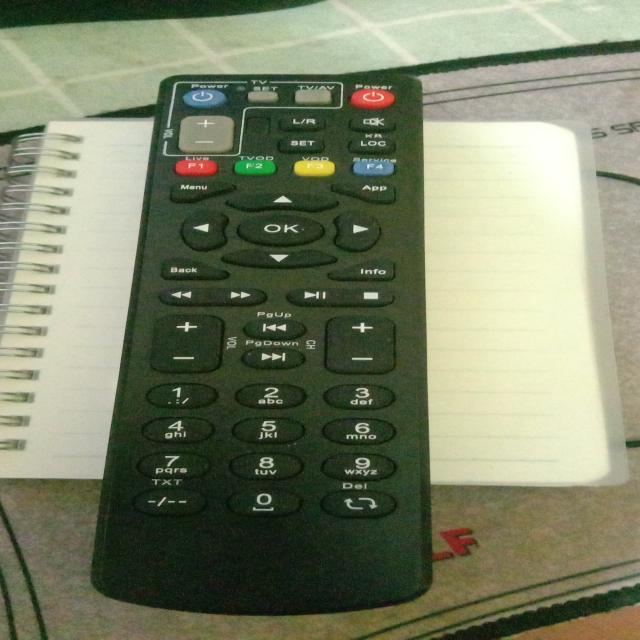remote: (95, 77, 425, 610)
